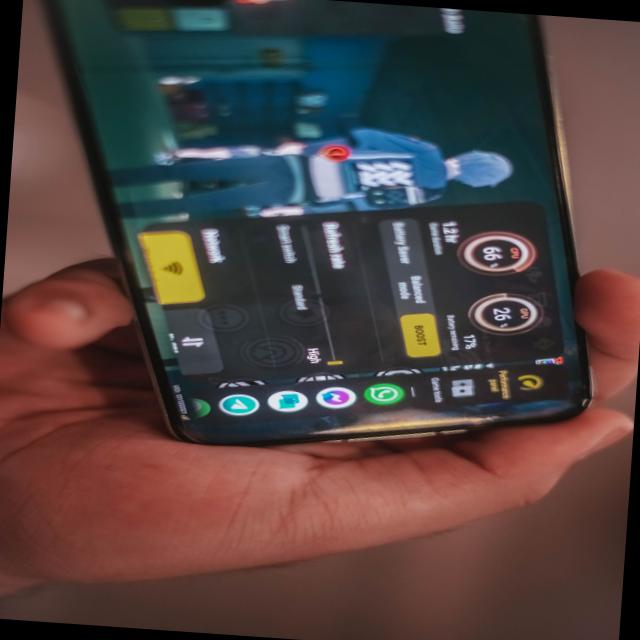mobile_phone: (40, 0, 607, 472)
